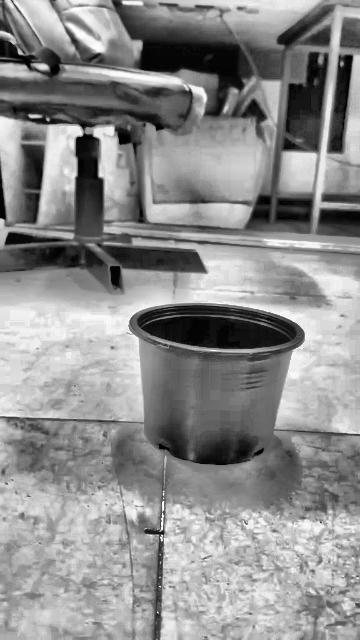pot: (129, 303, 303, 465)
